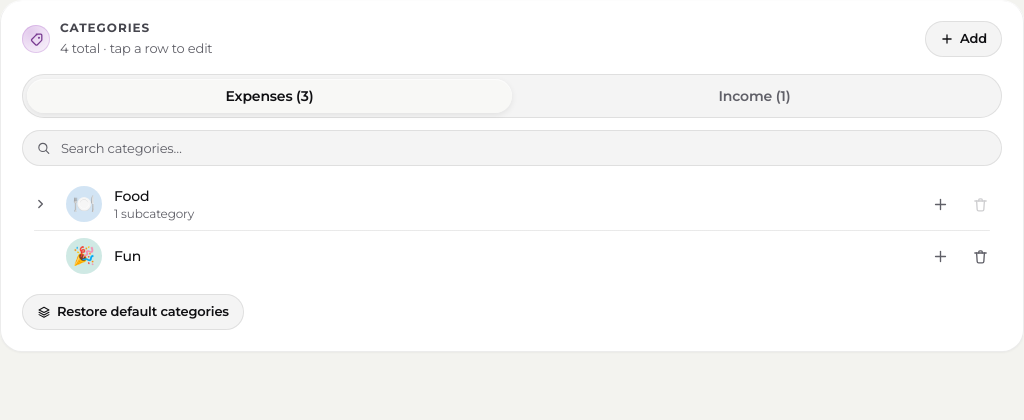
Test: CategoriesCard › starts with the groups folded, unfolds one and keeps used or parent categories from deletion
The image size is (1024, 420).
Expected: the text "Milk" is not shown
Click the button named "Expand": (40, 204) [26,190,54,218]
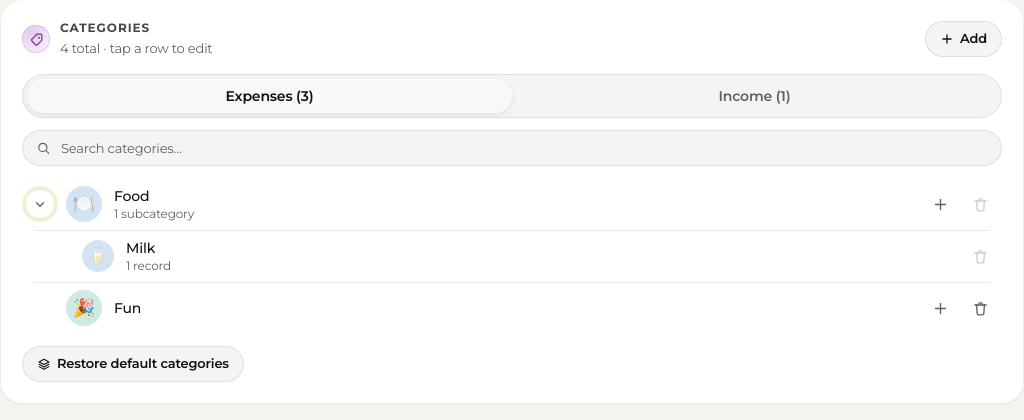
Expected: the text "Milk" is shown, [126,239,155,257]
Click the button named "Collapse": (40, 204) [26,190,54,218]
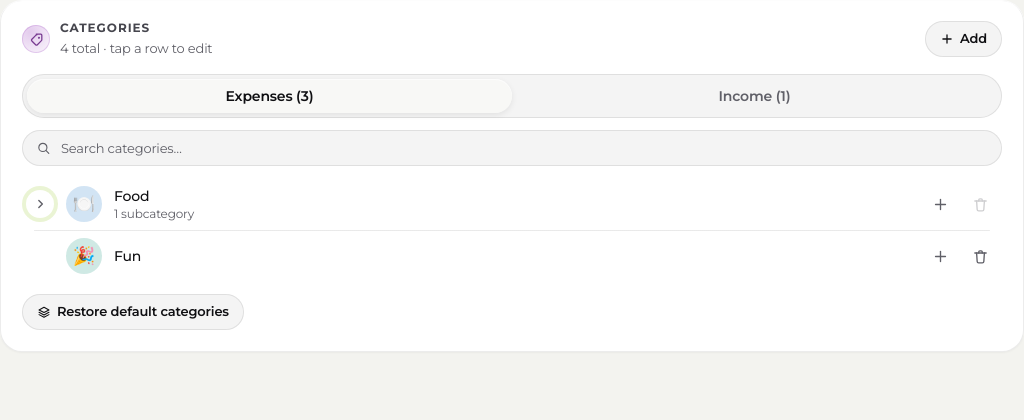
Expected: the button named "Delete Food: " is disabled, [962,186,998,222]
Expected: the button "Milk" is gone
